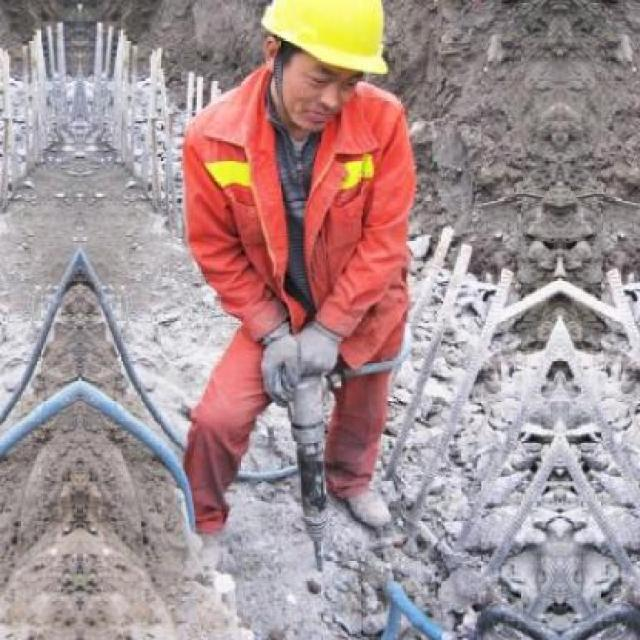helmet: (251, 1, 392, 134)
